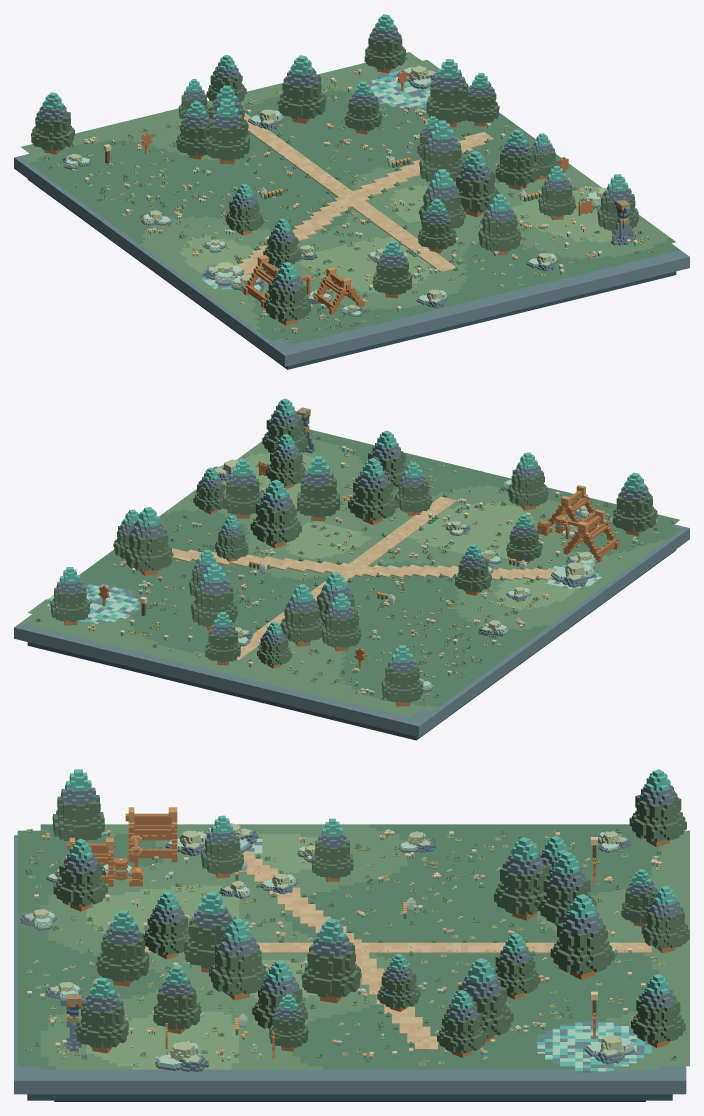
The model's file is survival_purified.glb.
The picture shows the model from 3 angles, top to bottom: view 1: azimuth 30°, elevation 25°; view 2: azimuth 150°, elevation 25°; view 3: azimuth 270°, elevation 25°; orthographic projection. The views are drawn at different scales.
Visible parts, largest first — view 1: survival_ground, survival_occluders; view 2: survival_ground, survival_occluders; view 3: survival_ground, survival_occluders.
Part boxes in pixels (x1,y1,x2,y2): survival_ground: (14, 52, 689, 369); survival_occluders: (31, 14, 638, 325); survival_ground: (14, 429, 689, 740); survival_occluders: (50, 398, 657, 706); survival_ground: (14, 824, 689, 1101); survival_occluders: (52, 769, 689, 1071).
Bounding box in the file's own units: 38.46 × 8.97 × 44.25.
